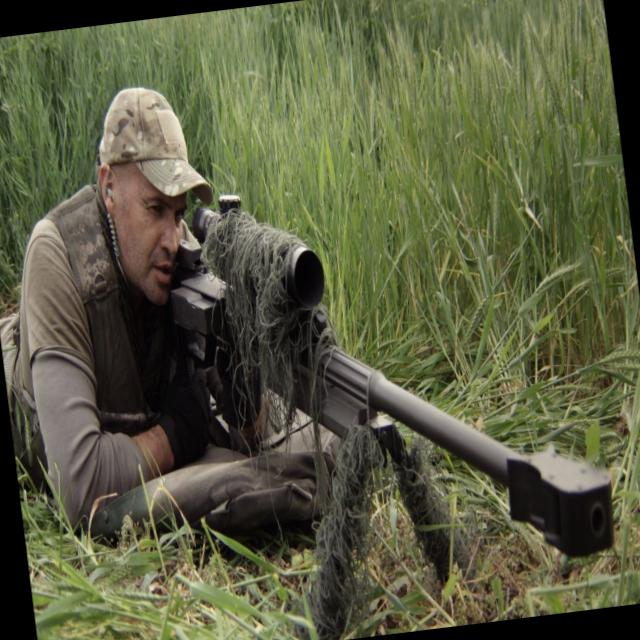Weapon: (137, 141, 623, 640)
